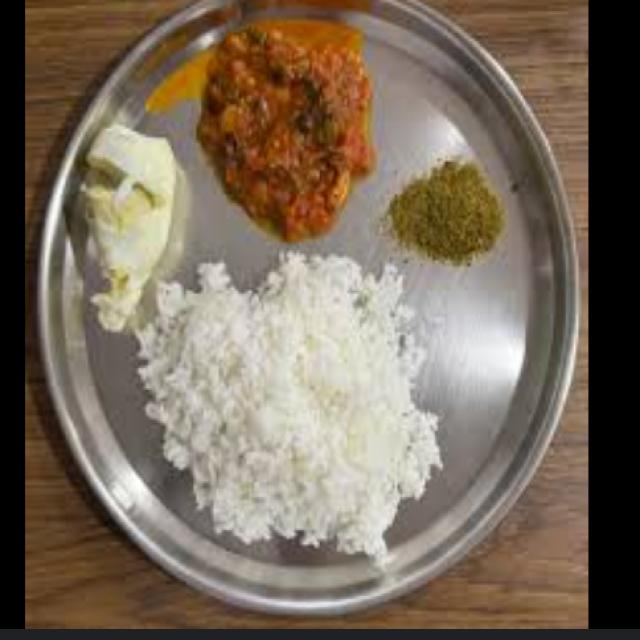rice: (156, 266, 440, 555)
